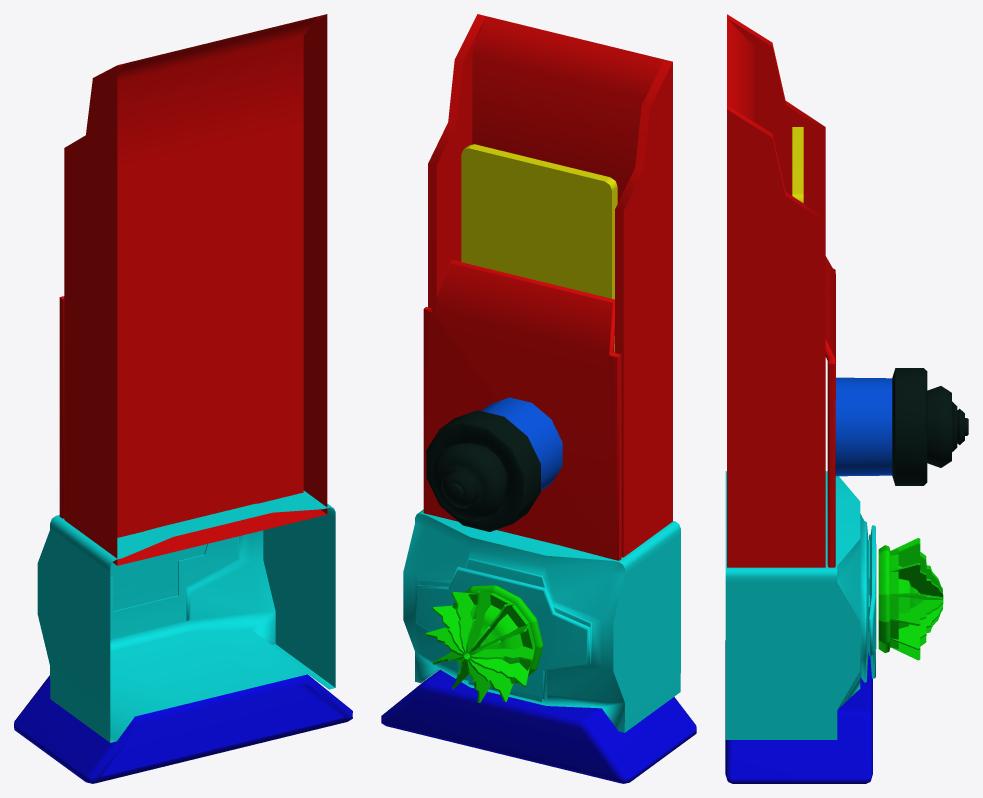
Rendered from module_low.fbx.
3 renders of one model, left to right at view 1: azimuth 30°, elevation 25°; view 2: azimuth 150°, elevation 25°; view 3: azimuth 270°, elevation 25°, orthographic. The views are drawn at different scales.
Visible parts, largest first — view 1: pCube6; view 2: pCube6; view 3: pCube6.
Part boxes in pixels (<box>): pCube6: <box>14,14,352,783</box>; pCube6: <box>381,14,696,783</box>; pCube6: <box>725,14,968,783</box>.
Bounding box in the file's own units: 12.72 × 32.57 × 10.81.
